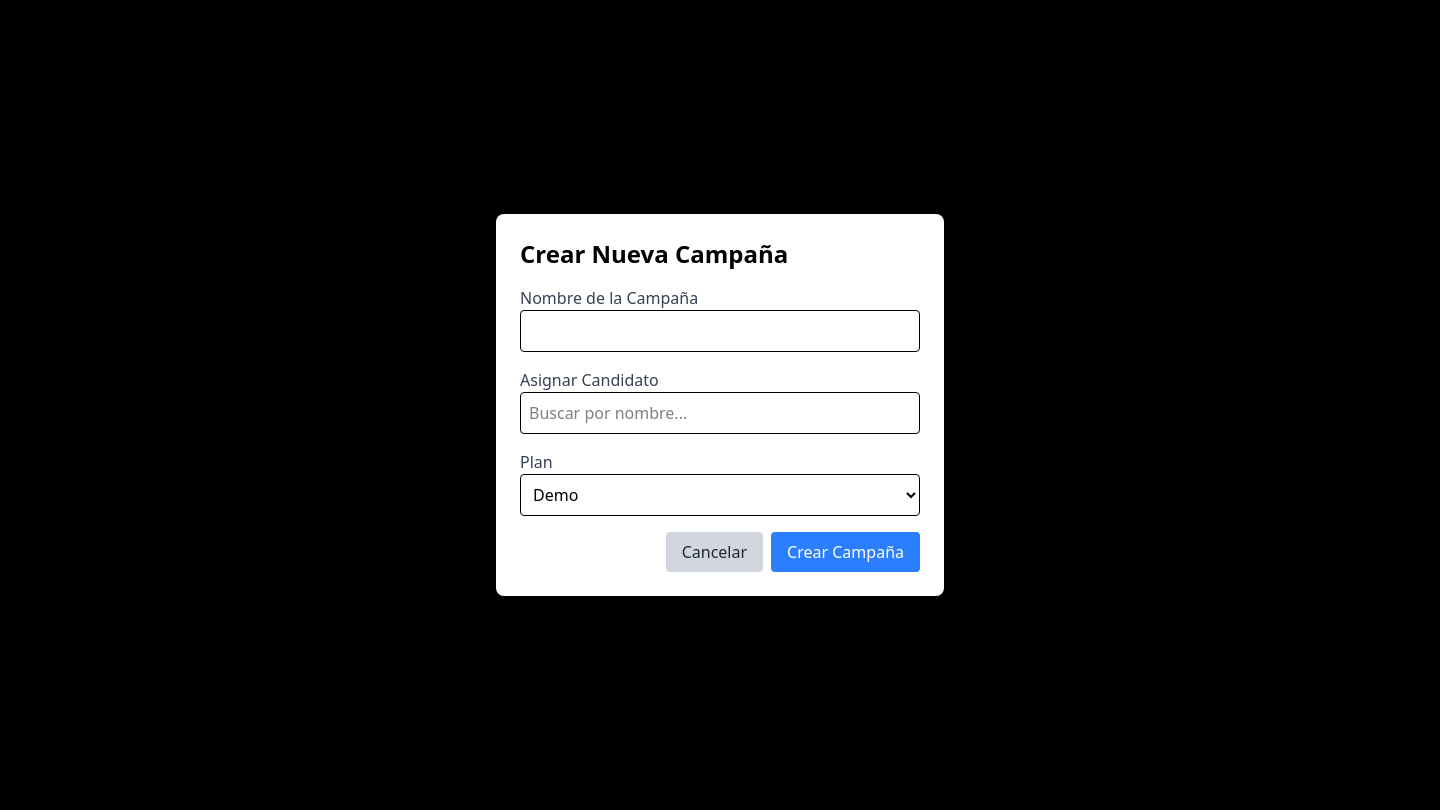
Scenario: CreateCampaignForm › searches for candidates and displays results
The image size is (1440, 810).
In the field with placeholder "Buscar por nombre...": (720, 413) [520,392,920,434], type "Candidato"
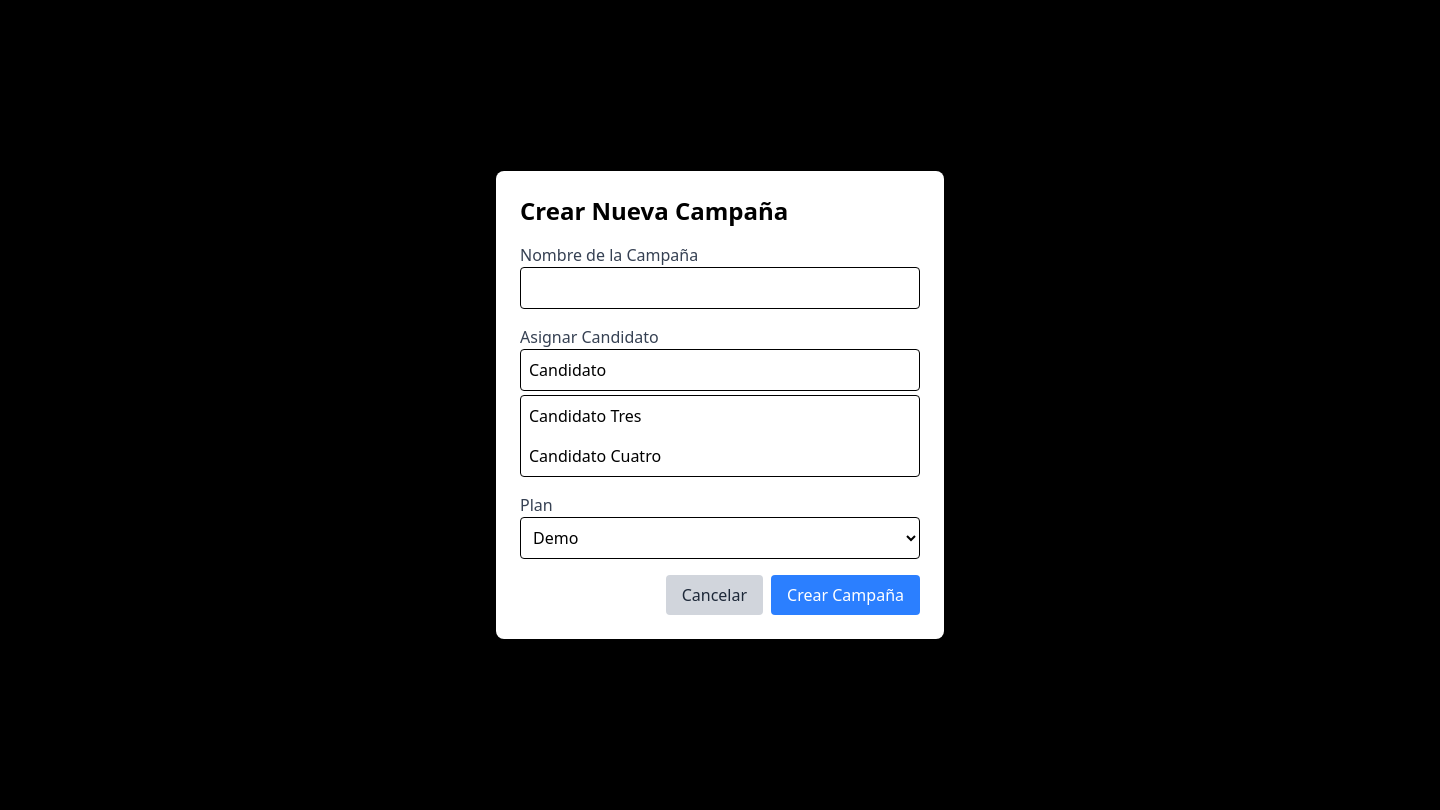
Expected: the list item "Candidato Tres" is shown, [529,405,642,427]
Expected: the list item "Candidato Cuatro" is shown, [529,445,661,467]
